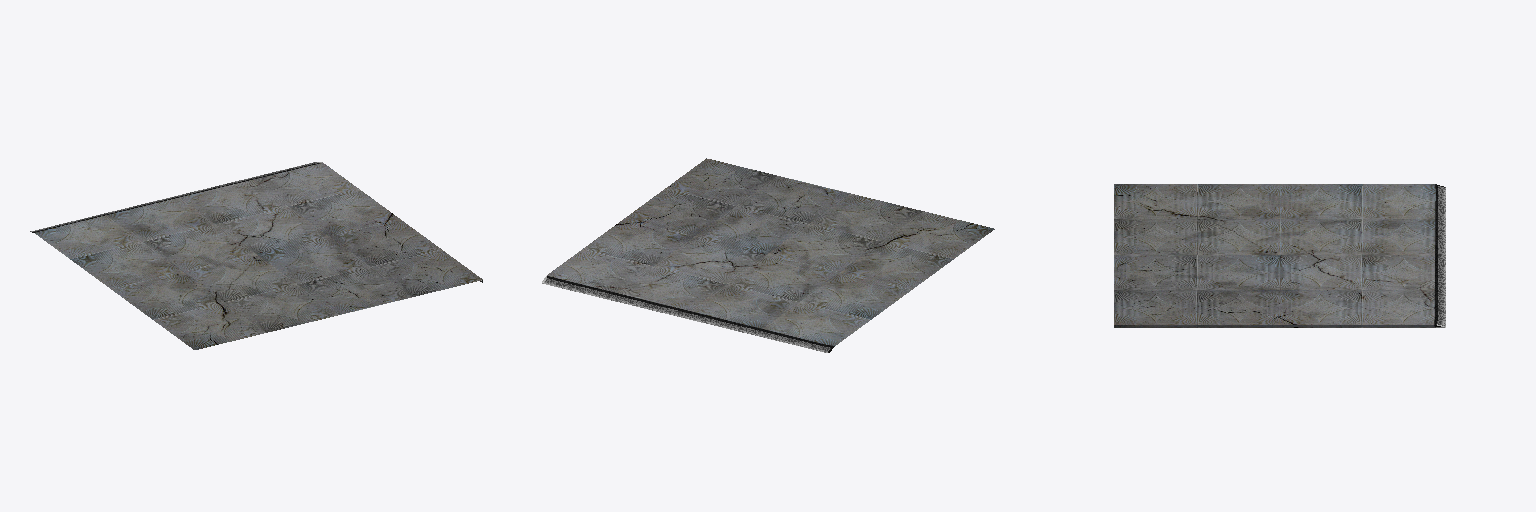
3 renders of one model, left to right at view 1: azimuth 30°, elevation 25°; view 2: azimuth 150°, elevation 25°; view 3: azimuth 270°, elevation 25°, orthographic.
Parts seen in each view (by area): view 1: Cube; view 2: Cube; view 3: Cube.
Boxes of the visible parts, x1,y1,x2,y2 form: Cube: [30, 162, 482, 349]; Cube: [542, 158, 994, 352]; Cube: [1114, 184, 1445, 327].
Bounding box in the file's own units: 4.53 × 0.0479 × 4.51.
1 materials, 1 textured.